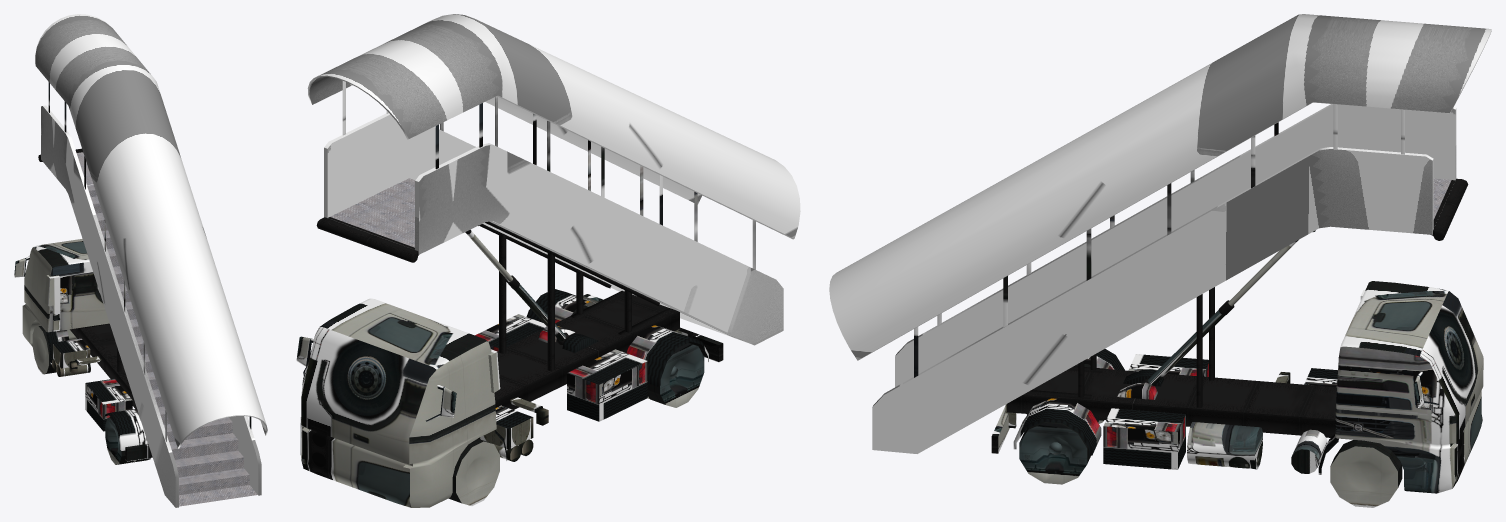
Rendered from stairs.glb.
3 views of the same model, side by side, from view 1: azimuth 30°, elevation 25°; view 2: azimuth 150°, elevation 25°; view 3: azimuth 270°, elevation 25° (orthographic). The views are drawn at different scales.
Visible parts, largest first — view 1: cover, paint, Blender_exporter_v4.1__stairs.ac, Cube.003, block, Cube.004, Cube, Cube.008, Cylinder.4, Cylinder.8, Cube.013, Cylinder.0 (+3 smaller); view 2: cover, Cube.003, paint, block, Cube.004, Cube, cover-under, Blender_exporter_v4.1__stairs.ac, Cylinder.4, Cylinder.8, cover-rods, Cylinder.0 (+11 smaller); view 3: cover, paint, Cube.003, block, Cube.004, Cube.007, Cylinder.8, Cylinder.0, Cylinder.6, Cylinder.4, cover-rods, cylinder00 (+5 smaller).
Part boxes in pixels (x1,y1,x2,y2): cover: (35,14,266,447); paint: (41,106,175,507); Blender_exporter_v4.1__stairs.ac: (76,152,257,506); Cube.003: (22,239,109,346); block: (43,105,261,507); Cube.004: (70,323,136,408); Cube: (85,378,132,431); Cube.008: (52,338,90,376); Cylinder.4: (102,409,148,450); Cylinder.8: (32,326,56,374); Cube.013: (45,275,60,330); Cylinder.0: (105,417,133,464); cover: (315,14,800,238); Cube.003: (300,298,496,507); paint: (419,144,783,345); block: (324,113,749,343); Cube.004: (494,294,679,409); Cube: (567,349,647,421); cover-under: (307,75,793,239); Blender_exporter_v4.1__stairs.ac: (330,178,414,247); Cylinder.4: (526,289,708,386); Cylinder.8: (448,438,499,505); cover-rods: (342,81,755,269); Cylinder.0: (647,342,704,407); cover: (829,14,1491,360); paint: (872,149,1432,453); Cube.003: (1335,281,1483,493); block: (873,104,1456,405); Cube.004: (1007,369,1336,437); Cube.007: (1103,408,1185,469); Cylinder.8: (1330,440,1402,507); Cylinder.0: (1019,421,1090,484); Cylinder.6: (1187,422,1262,469); Cylinder.4: (1013,349,1124,455); cover-rods: (914,104,1404,377); cylinder00: (1141,240,1298,385).
Size of the model in its own units: 4.27 by 7.59 by 10.26.
6 materials, 6 textured.
